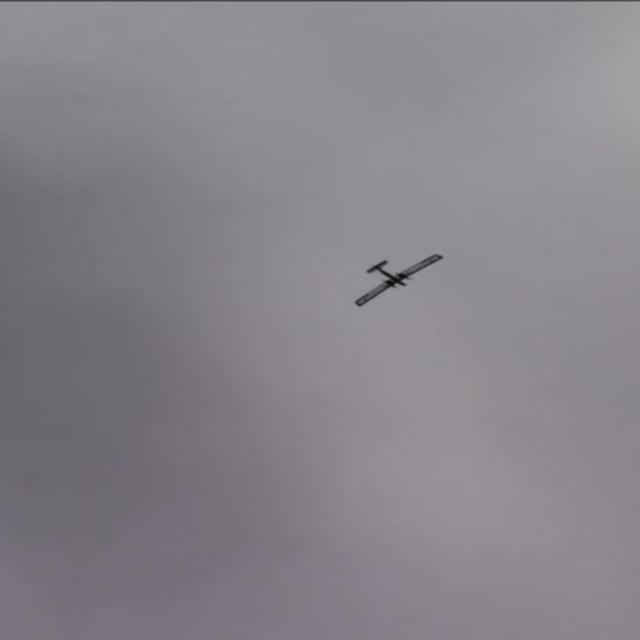plane: (355, 252, 446, 306)
